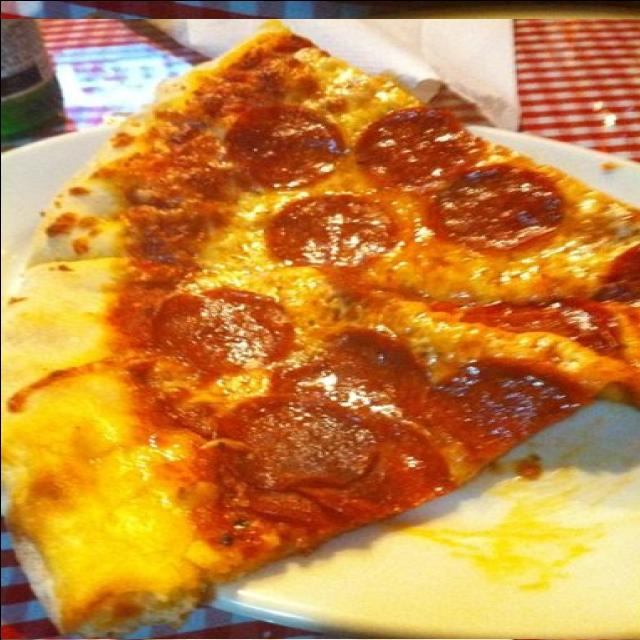pepperoni: (212, 132, 440, 261), (428, 191, 582, 298), (266, 241, 432, 331), (150, 284, 291, 373), (229, 464, 345, 554), (258, 387, 391, 464), (438, 408, 561, 491), (358, 470, 476, 547)
pizza: (0, 18, 640, 638)
